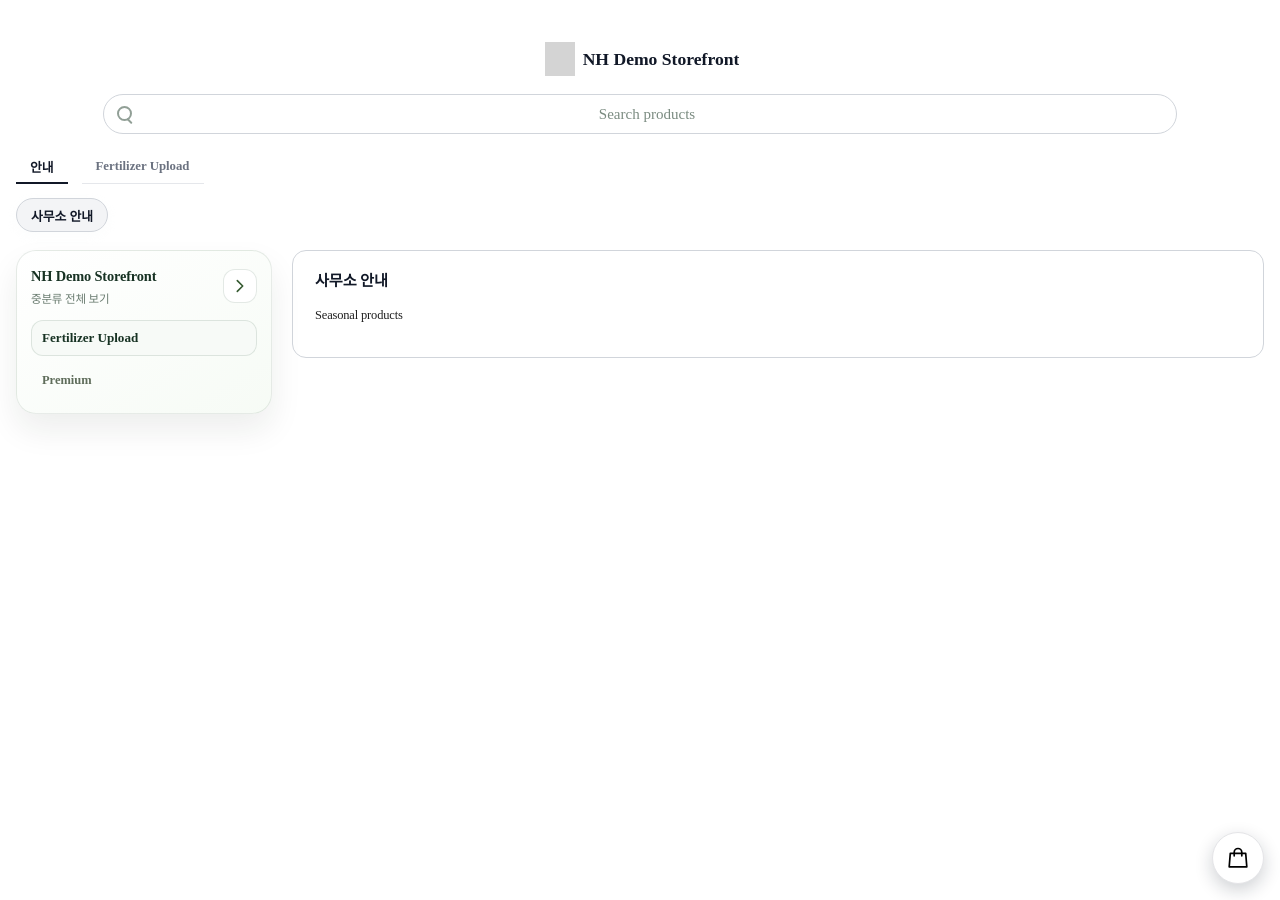
Test: PublicStorefrontPage › flattens manufacturer_list into comma-joined manufacturer names on the card
This screenshot has width=1280, height=900.
Click the 1st button "Fertilizer Upload": (142, 167) [82,150,204,184]
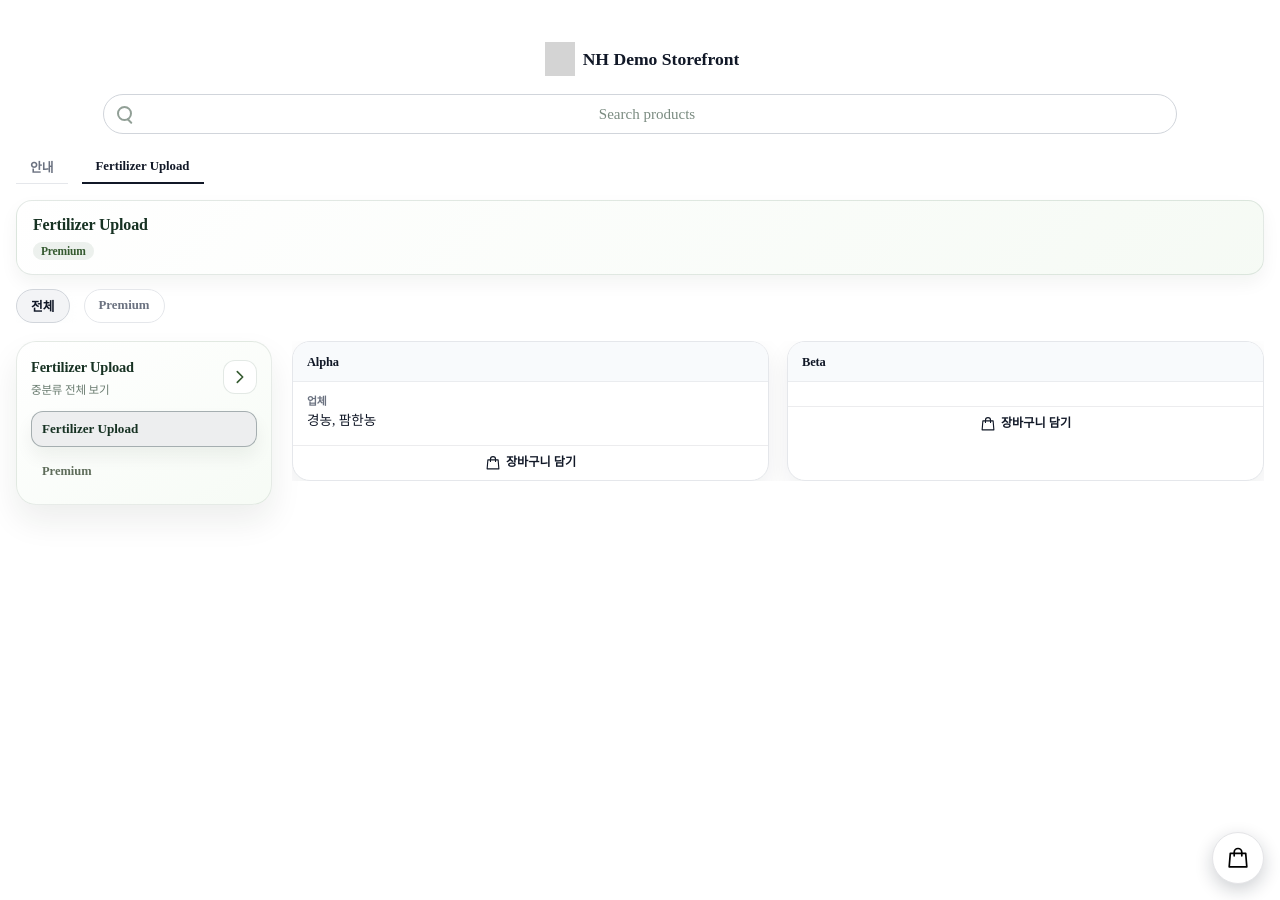
Check: the text "경농, 팜한농" is shown, box [307,413,376,428]
